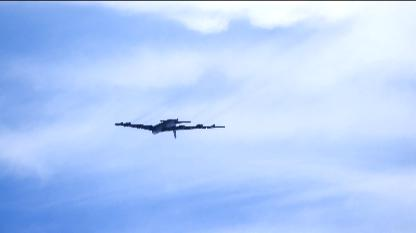B2: (114, 118, 226, 138)
